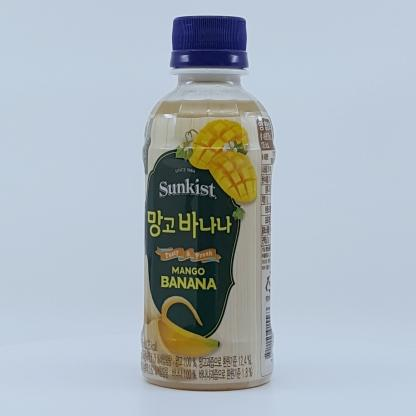-----------220ML: (141, 15, 276, 391), (349, 175, 350, 177)
